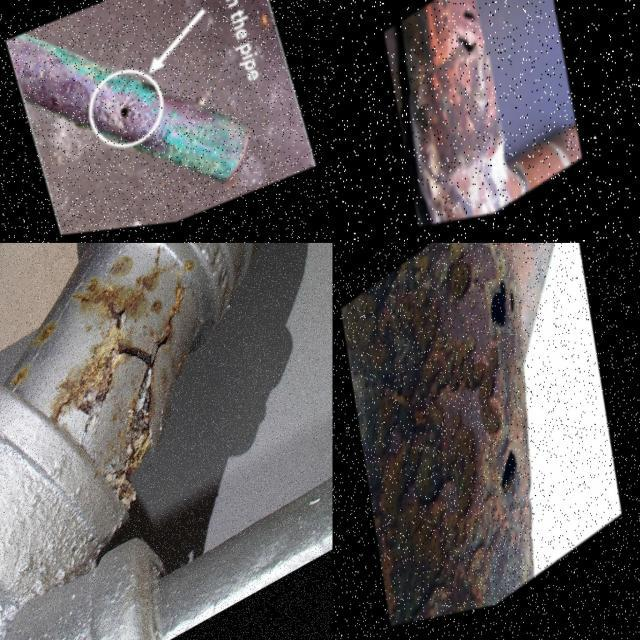crack: (111, 308, 203, 428)
hole: (495, 444, 529, 513), (484, 278, 514, 343), (456, 26, 483, 72), (438, 1, 460, 32), (460, 6, 480, 37), (507, 285, 522, 326), (116, 102, 138, 125)
